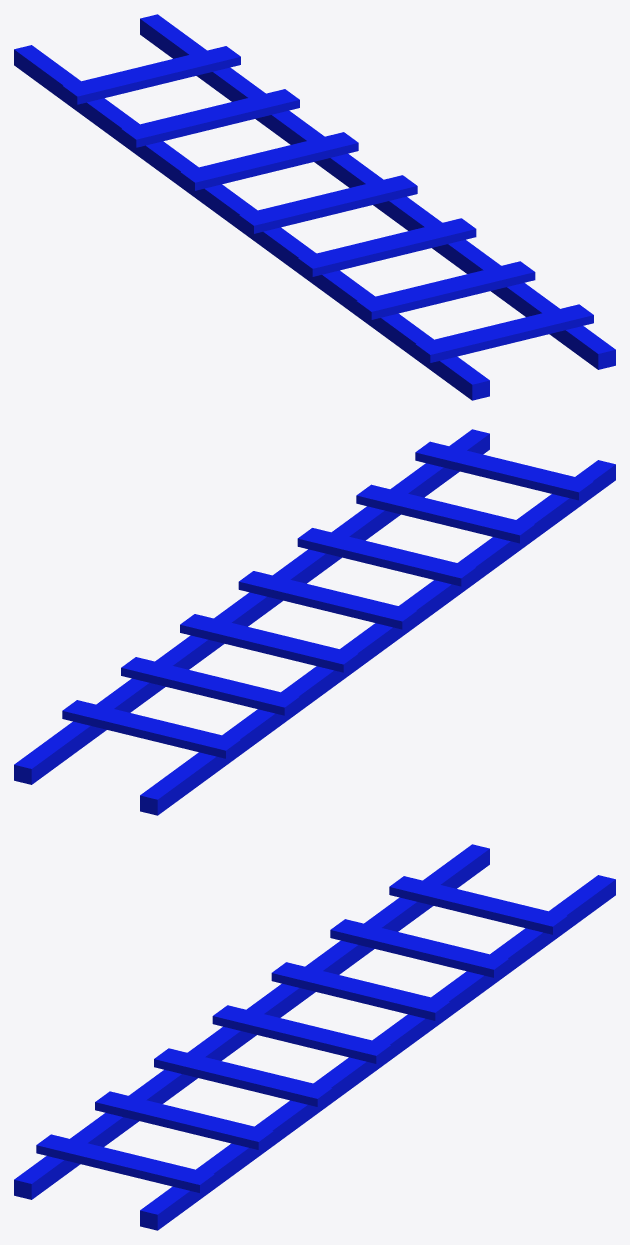
Rendered from ladder.FBX.
The picture shows the model from 3 angles, top to bottom: view 1: azimuth 30°, elevation 25°; view 2: azimuth 150°, elevation 25°; view 3: azimuth 330°, elevation 25°; orthographic projection.
Visible parts, largest first — view 1: ladder_03_LP; view 2: ladder_03_LP; view 3: ladder_03_LP.
Boxes of the visible parts, x1=… form: ladder_03_LP: x1=14, y1=14, x2=615, y2=400; ladder_03_LP: x1=14, y1=429, x2=615, y2=815; ladder_03_LP: x1=14, y1=844, x2=615, y2=1230.
Bounding box in the file's own units: 62.18 × 8.94 × 302.
